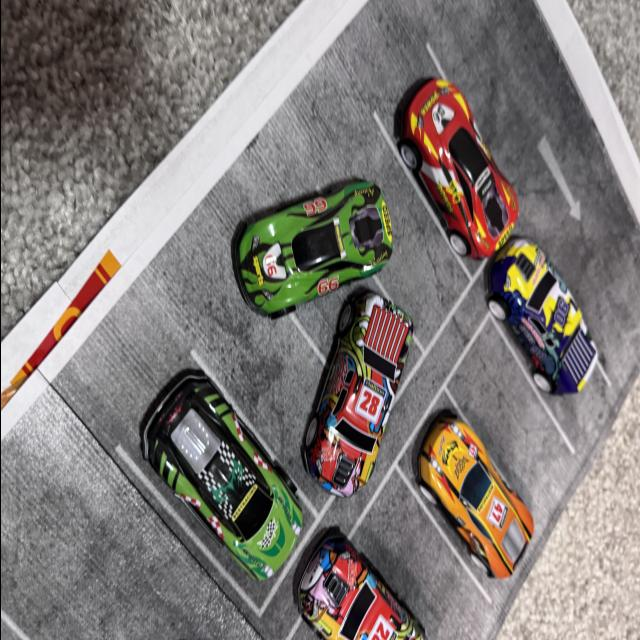car: (134, 371, 301, 577), (288, 268, 428, 512), (232, 160, 404, 340), (397, 28, 525, 250), (482, 224, 606, 398), (426, 422, 551, 576), (304, 538, 470, 640)
